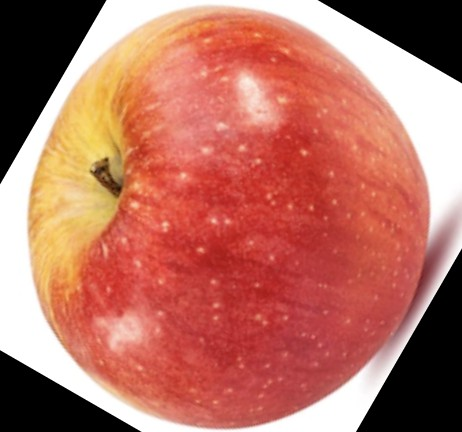fresh_apple: (25, 5, 432, 429)
